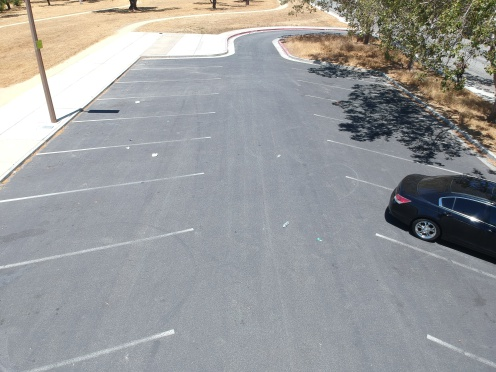bottle: (282, 216, 291, 227)
can: (126, 136, 136, 142)
plastic bag: (149, 151, 160, 160)
